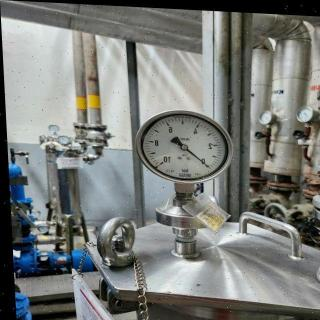gauge: (136, 110, 234, 187), (154, 156, 172, 170), (200, 158, 214, 174), (182, 145, 188, 150), (207, 166, 211, 170)
